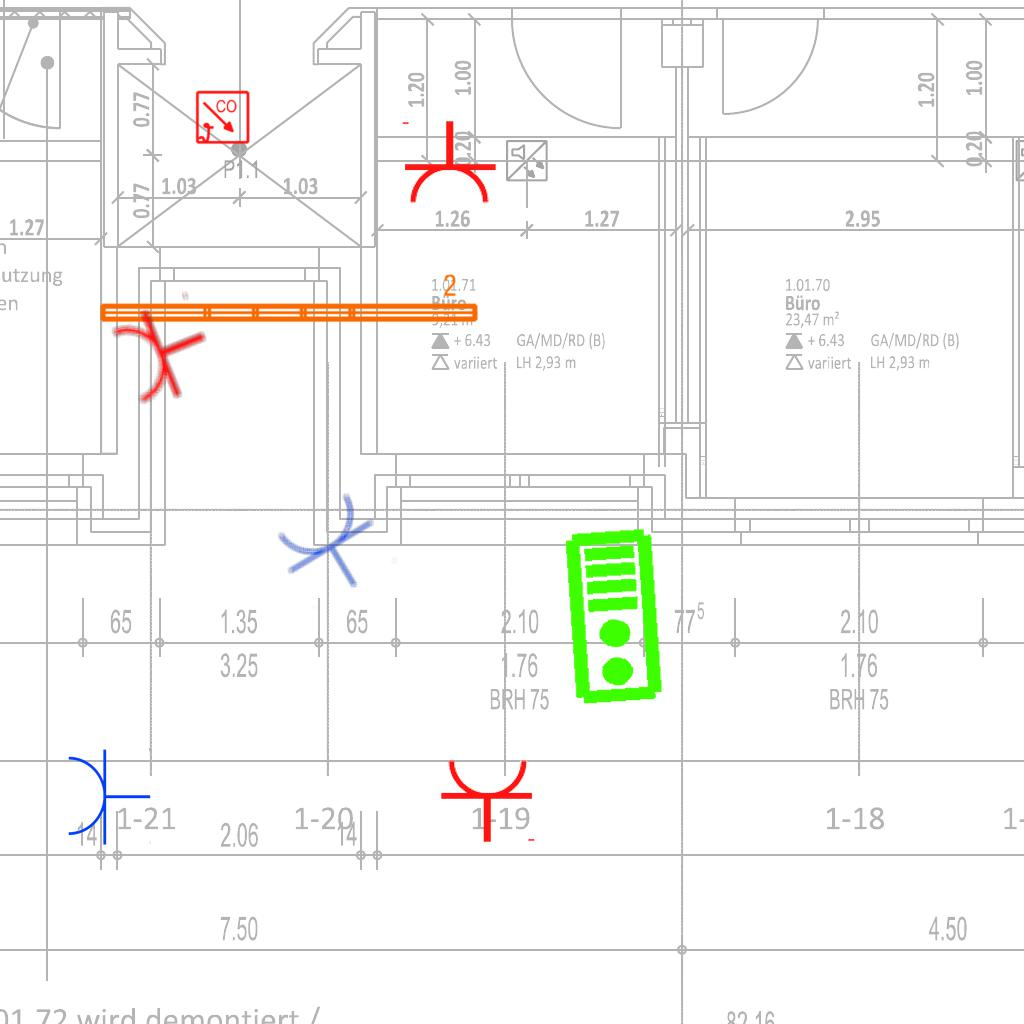Ambulanz_Pendelleuchte_LED: (95, 272, 482, 328)
Gegensprechanlage_mit_Video: (561, 525, 670, 709)
ROA_Rauchmelder_optisch_mit_Signalgeber_(Sockelsirene): (195, 90, 251, 146)
Schukosteckdose_einfach: (267, 485, 399, 612), (105, 287, 224, 413), (439, 757, 539, 844), (64, 746, 151, 846), (398, 119, 498, 206)
